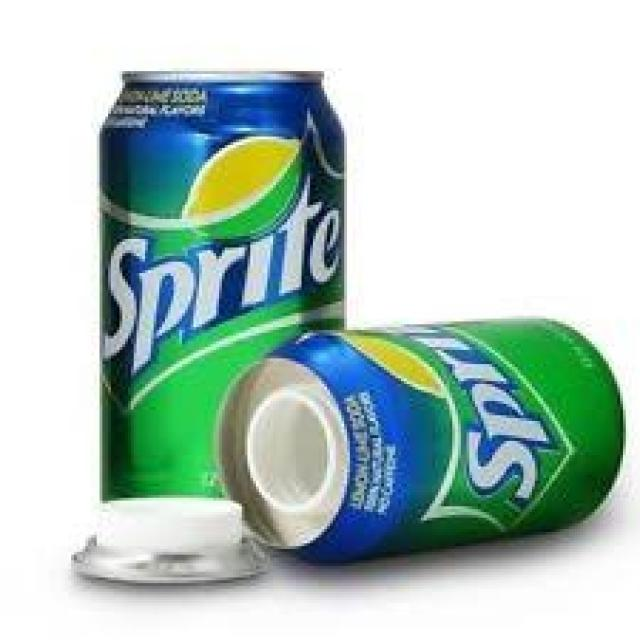aluminum_can: (100, 74, 347, 502), (225, 321, 626, 563)
